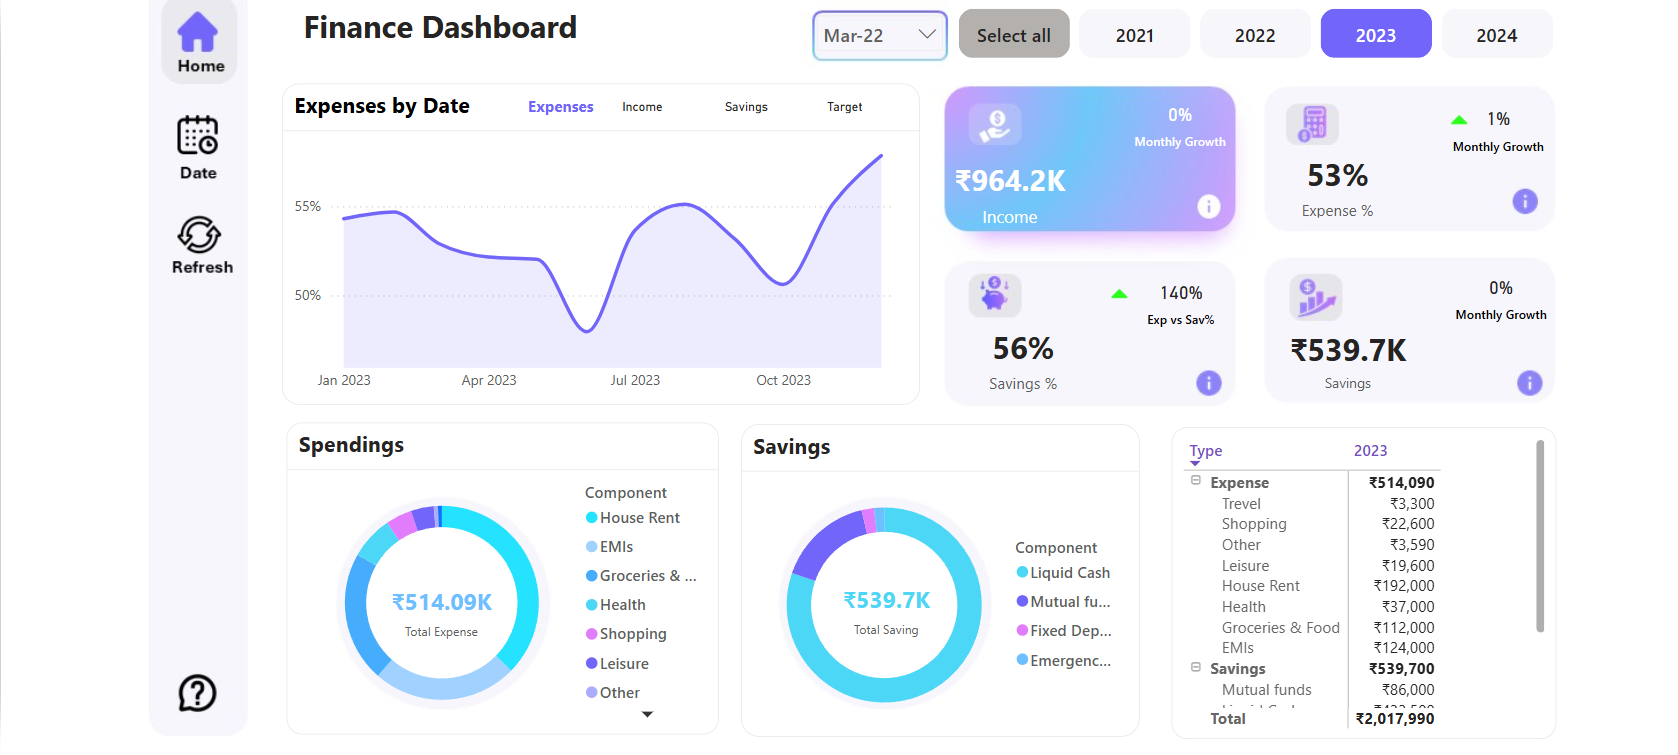

Layout of this report page (visuals, bound fields, positions):
{"tool":"powerbi","page":{"name":"Fin Dashboard","canvas":[1280,720],"ordinal":0},"visuals":[{"type":"card","fields":{"Values":["Key Measures.Total Income"]},"box":[718.4,187.4,109.3,65.6],"z":0},{"type":"card","fields":{"Values":["Key Measures.Expense %"]},"box":[999.6,182.7,118.7,65.6],"z":1000},{"type":"card","fields":{"Values":["Key Measures.Savings %"]},"box":[718.4,329.5,132.8,70.3],"z":2000},{"type":"card","fields":{"Values":["Key Measures.Total Saving"]},"box":[1001.1,329.5,131.2,71.8],"z":3000},{"type":"advancedSlicerVisual","fields":{"Values":["FinData.Year"]},"box":[724.4,56.7,529.6,53.1],"z":4000},{"type":"card","fields":{"Values":["Key Measures.Title"]},"box":[148.5,51.1,259,52.8],"z":5000},{"type":"donutChart","title":"Spendings","fields":{"Category":["FinData.Component"],"Y":["Divide(Key Measures.Total Expense, ScopedEval(Key Measures.Total Expense, []))"]},"box":[145.3,421.6,375.8,271.6],"z":6000},{"type":"areaChart","fields":{"Category":["FinData.Date"],"Y":["Key Measures.Trend_Hanle"]},"box":[140.6,126.5,554.4,279.6],"z":7000},{"type":"donutChart","title":"Savings","fields":{"Category":["FinData.Component"],"Y":["Divide(Key Measures.Total Saving, ScopedEval(Key Measures.Total Saving, []))"]},"box":[540.4,423.3,346.7,271.8],"z":8000},{"type":"advancedSlicerVisual","fields":{"Values":["Card_Handle.Type"]},"box":[338.1,127,359.6,42.9],"z":9000},{"type":"card","fields":{"Values":["Key Measures.Total Saving"]},"box":[618.6,546,95.7,74.2],"z":10000},{"type":"card","fields":{"Values":["Key Measures.Total Expense"]},"box":[216.1,539.4,125.4,90.7],"z":11000},{"type":"pivotTable","fields":{"Values":["Key Measures.Values"],"Columns":["FinData.Year","FinData.Date"],"Rows":["Type.Type","FinData.Component"]},"box":[914,425.1,334.8,271],"z":12000},{"type":"slicer","fields":{"Values":["Select_Month.Month-Yr"]},"box":[596.6,57.8,129.6,54.7],"z":13000},{"type":"card","title":"Monthly Growth","fields":{"Values":["Key Measures.Monthly_Growth"]},"box":[876.3,126.3,90,69.5],"z":14000},{"type":"card","title":"Monthly Growth","fields":{"Values":["Key Measures.Monthly_Expense_Growth"]},"box":[1153.1,131.1,90.3,69.1],"z":15000},{"type":"card","title":"Monthly Growth","fields":{"Values":["Key Measures.Monthy_Saving_Growth"]},"box":[876.3,285.8,91.6,60],"z":16000},{"type":"card","title":"Monthly Growth","fields":{"Values":["Key Measures.Monthly_Saving_Growth"]},"box":[1155.8,276.3,90,69.5],"z":17000},{"type":"cardVisual","fields":{"Data":["Key Measures.Arrow_icome"]},"box":[1131.8,131.1,72.6,51.4],"z":18000},{"type":"cardVisual","fields":{"Data":["Key Measures.Arrow_icome"]},"box":[1125.8,276.7,72.5,37.5],"z":19000},{"type":"cardVisual","fields":{"Data":["Key Measures.Arrow_Ex_vs_Savings"]},"box":[840.3,285.8,71.8,37.5],"z":20000},{"type":"cardVisual","fields":{"Data":["Key Measures.Arrow_Income_Savings"]},"box":[849.2,128.3,72.5,37.5],"z":21000},{"type":"actionButton","box":[34.4,235.8,65.6,68.7],"z":22000},{"type":"group","id":"g1","title":"Group 1","box":[35.3,146.6,402,314.1],"z":23000},{"type":"actionButton","box":[37.5,148.4,64,68.7],"z":24000},{"type":"cardVisual","fields":{"Data":["Key Measures.Total Saving"]},"box":[1197.3,359.4,48.8,43],"z":25000},{"type":"cardVisual","fields":{"Data":["Key Measures.Savings %"]},"box":[914.1,359.4,54.7,41],"z":26000},{"type":"cardVisual","fields":{"Data":["Key Measures.Total Income"]},"box":[912.2,199.2,56.6,54.7],"z":27000},{"type":"cardVisual","fields":{"Data":["Key Measures.Expense %"]},"box":[1198,199.7,47.9,51.1],"z":28000},{"type":"actionButton","box":[35.3,146.6,65.6,69.1],"z":33000,"group":"g1"}]}

Visuals, with their boxes on the page's 1280x720 design canvas (x1, y1, x2, y2). These are canvas units, not pixel positions in the 1678x755 screenshot, which may show the page scaled, cropped or inside an application window:
card - Key Measures.Total Income: (718, 187, 828, 253)
card - Key Measures.Expense %: (1000, 183, 1118, 248)
card - Key Measures.Savings %: (718, 330, 851, 400)
card - Key Measures.Total Saving: (1001, 330, 1132, 401)
advancedSlicerVisual - FinData.Year: (724, 57, 1254, 110)
card - Key Measures.Title: (148, 51, 408, 104)
"Spendings" donutChart: (145, 422, 521, 693)
areaChart - FinData.Date x Key Measures.Trend_Hanle: (141, 126, 695, 406)
"Savings" donutChart: (540, 423, 887, 695)
advancedSlicerVisual - Card_Handle.Type: (338, 127, 698, 170)
card - Key Measures.Total Saving: (619, 546, 714, 620)
card - Key Measures.Total Expense: (216, 539, 342, 630)
pivotTable - Key Measures.Values x FinData.Year: (914, 425, 1249, 696)
slicer - Select_Month.Month-Yr: (597, 58, 726, 112)
"Monthly Growth" card: (876, 126, 966, 196)
"Monthly Growth" card: (1153, 131, 1243, 200)
"Monthly Growth" card: (876, 286, 968, 346)
"Monthly Growth" card: (1156, 276, 1246, 346)
cardVisual - Key Measures.Arrow_icome: (1132, 131, 1204, 182)
cardVisual - Key Measures.Arrow_icome: (1126, 277, 1198, 314)
cardVisual - Key Measures.Arrow_Ex_vs_Savings: (840, 286, 912, 323)
cardVisual - Key Measures.Arrow_Income_Savings: (849, 128, 922, 166)
actionButton: (34, 236, 100, 304)
"Group 1" group: (35, 147, 437, 461)
actionButton: (38, 148, 102, 217)
cardVisual - Key Measures.Total Saving: (1197, 359, 1246, 402)
cardVisual - Key Measures.Savings %: (914, 359, 969, 400)
cardVisual - Key Measures.Total Income: (912, 199, 969, 254)
cardVisual - Key Measures.Expense %: (1198, 200, 1246, 251)
actionButton: (35, 147, 101, 216)
